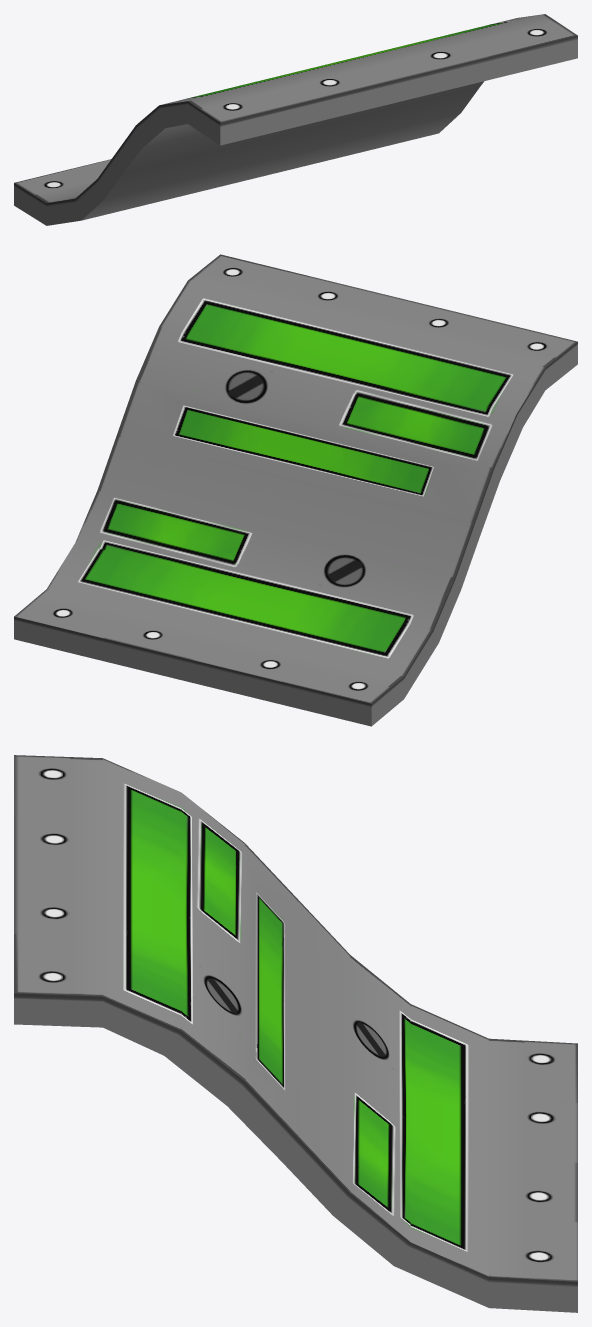
Rendered from space_slope3.gltf.
The picture shows the model from 3 angles, top to bottom: view 1: azimuth 30°, elevation 25°; view 2: azimuth 150°, elevation 25°; view 3: azimuth 270°, elevation 25°; orthographic projection. The views are drawn at different scales.
Visible parts, largest first — view 1: space_slope3_glb; view 2: space_slope3_glb; view 3: space_slope3_glb.
Boxes of the visible parts, x1=… form: space_slope3_glb: x1=14, y1=14, x2=577, y2=225; space_slope3_glb: x1=14, y1=254, x2=577, y2=726; space_slope3_glb: x1=14, y1=755, x2=577, y2=1312.
Size of what is drawn, in the model's own units: 4 by 2.5 by 4.
Materials: 1 (1 with a texture image).
